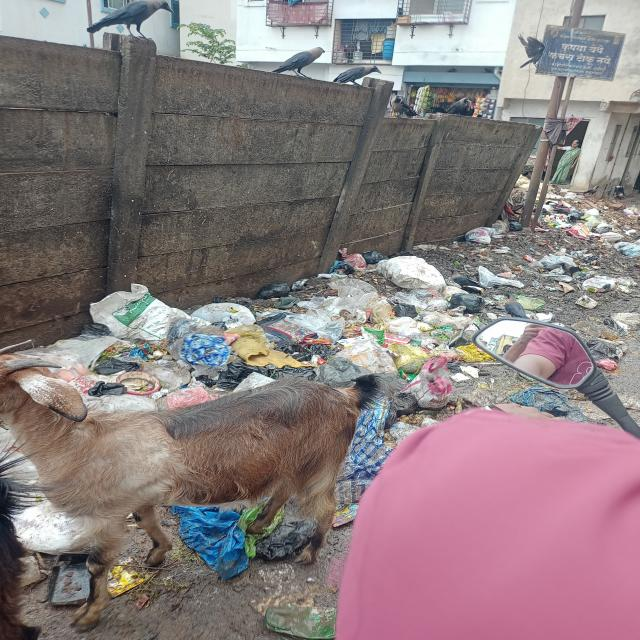garbage: (40, 254, 508, 400)
